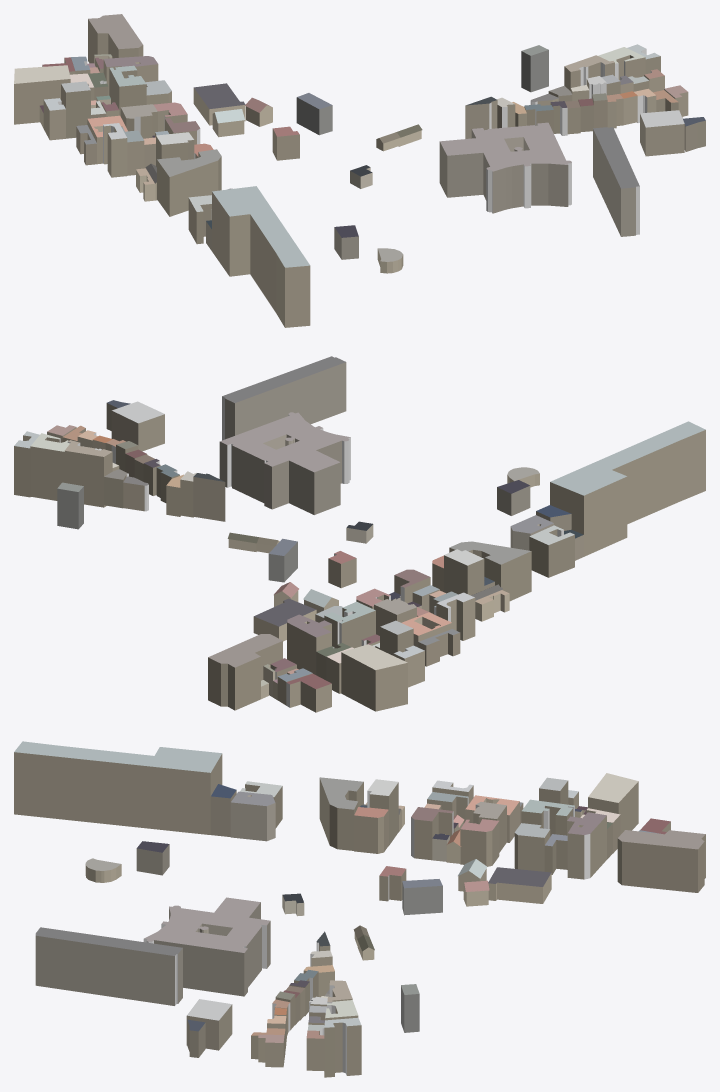
3 views of the same model, one above another, from view 1: azimuth 30°, elevation 25°; view 2: azimuth 150°, elevation 25°; view 3: azimuth 270°, elevation 25° (orthographic). The views are drawn at different scales.
Visible parts, largest first — view 1: tuile; view 2: tuile; view 3: tuile.
Part boxes in pixels (<box>): tuile: <box>14,14,705,327</box>; tuile: <box>14,356,705,712</box>; tuile: <box>14,741,705,1077</box>.
Size of the model in its own units: 269 by 34.62 by 298.
